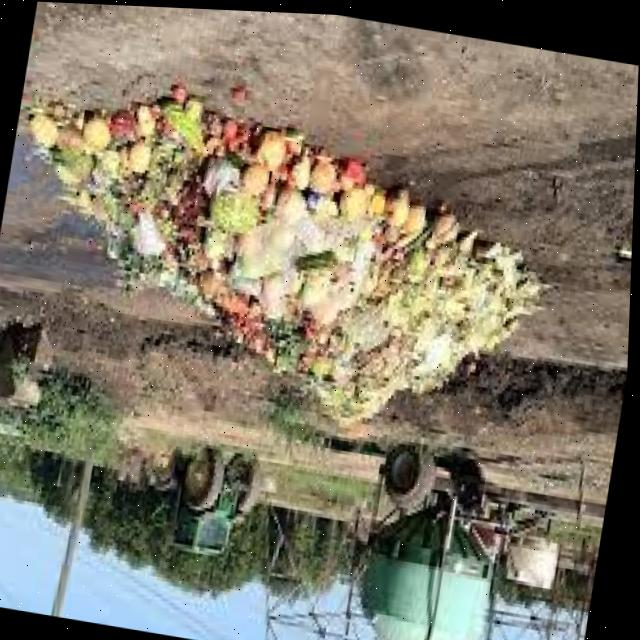Wet: (249, 180, 323, 266), (301, 253, 356, 332), (91, 141, 121, 195)
